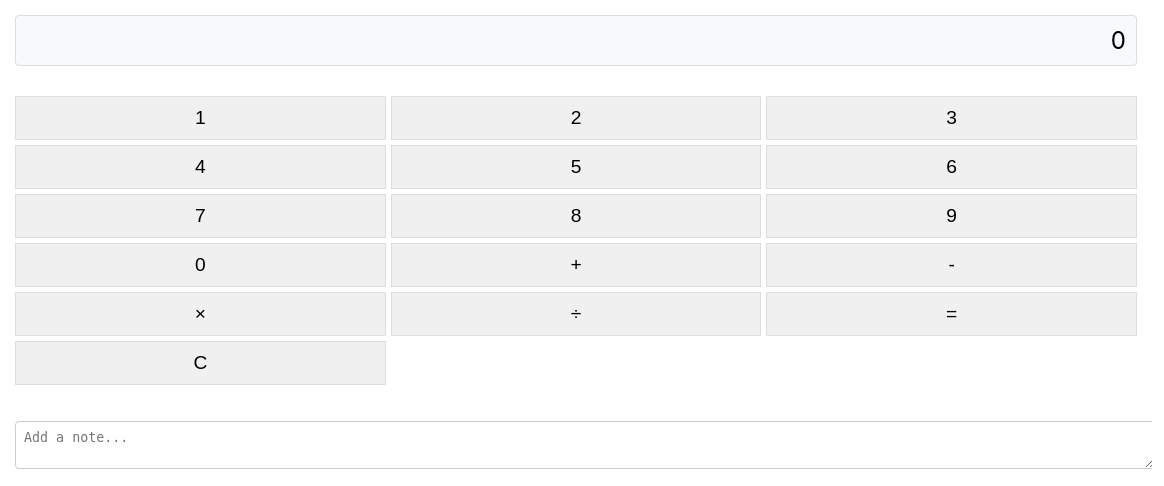
Test: BasicCalculator Component › performs subtraction correctly
Click the button "5" at {"x": 576, "y": 167}, box [391,145,761,189]
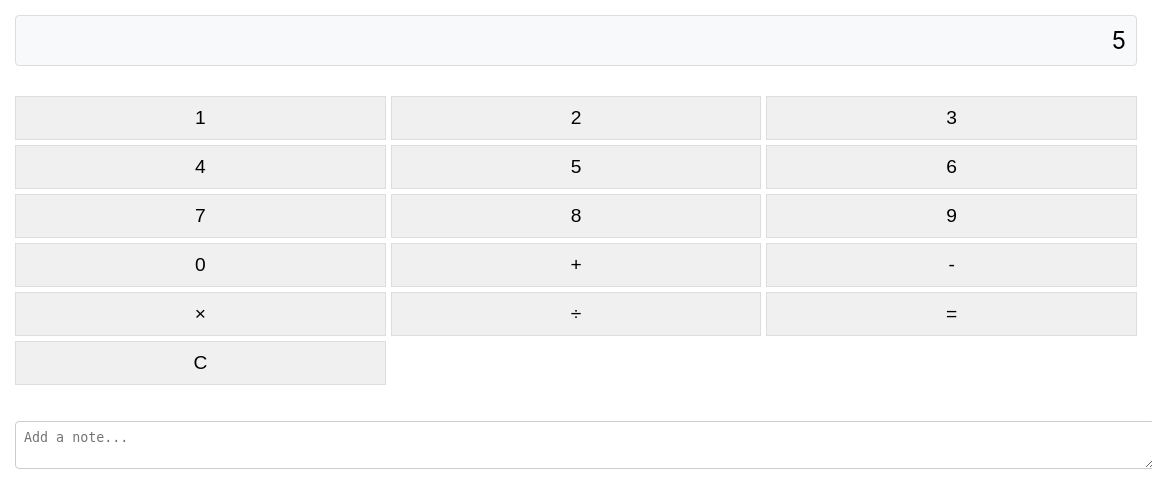
Click the button "-" at {"x": 952, "y": 265}, box [766,243,1137,287]
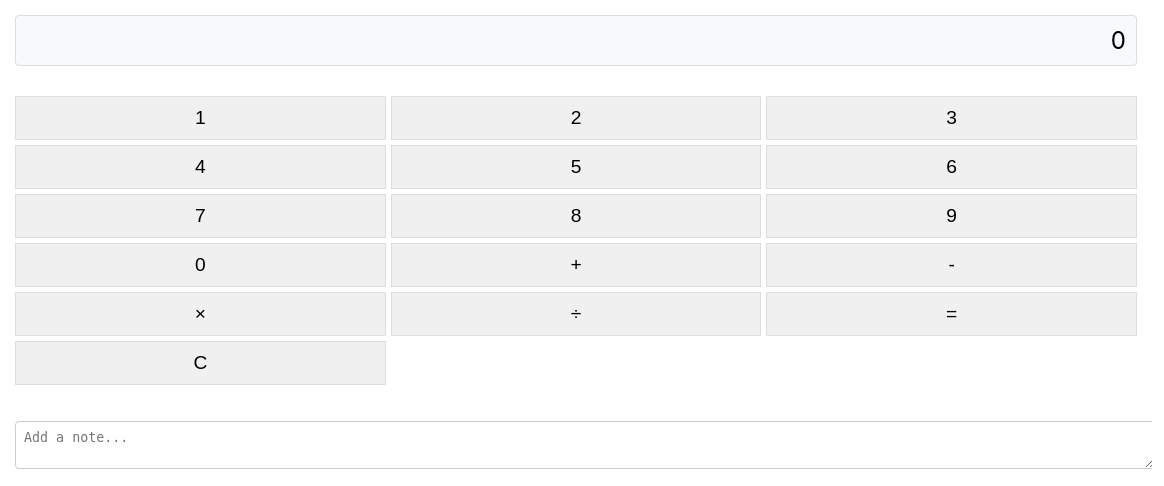
Click the button "3" at {"x": 952, "y": 118}, box [766,96,1137,140]
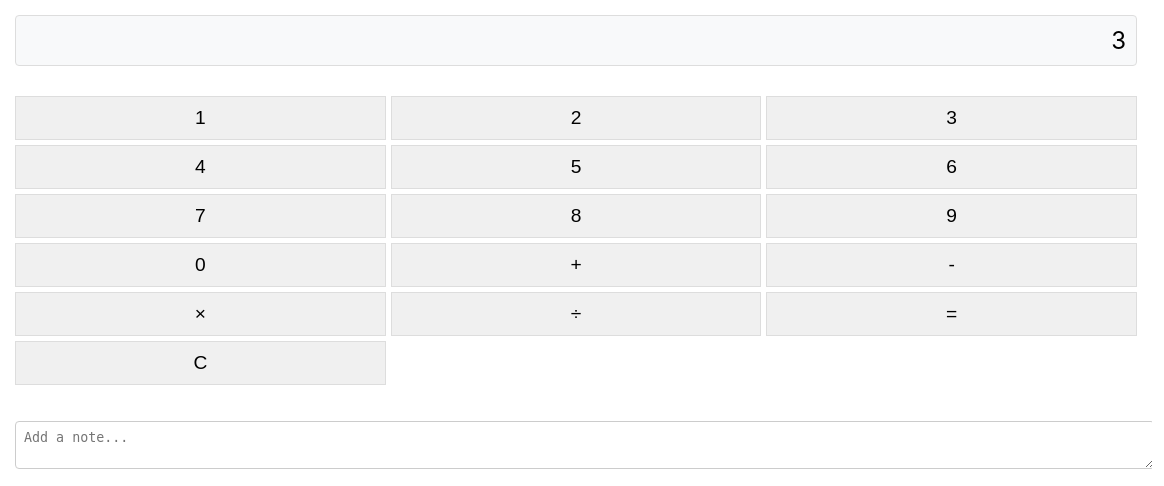
Click the button "=" at {"x": 952, "y": 314}, box [766,292,1137,336]
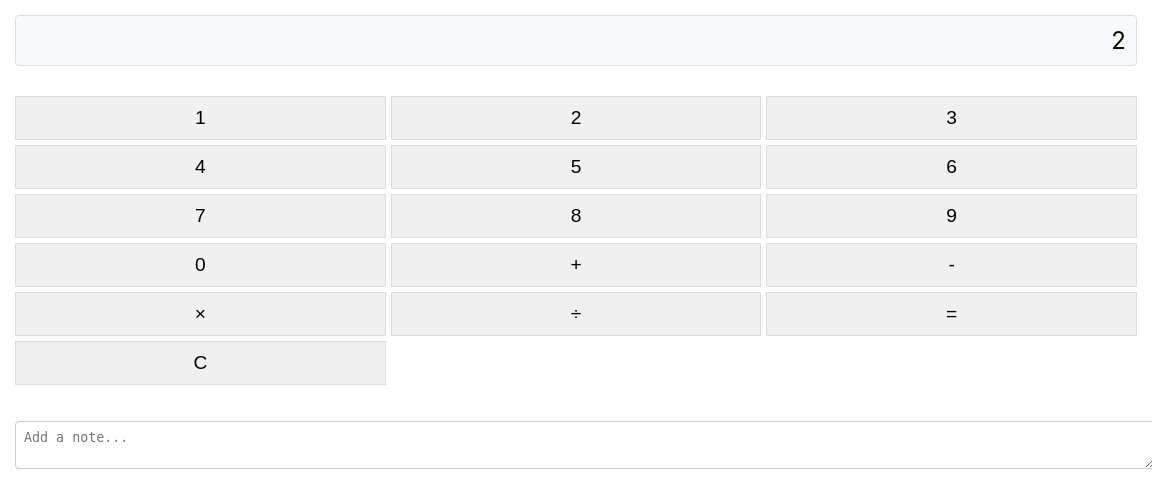
Now the text with test id "calculator-display" reads "2", box [1111,26,1126,55]
